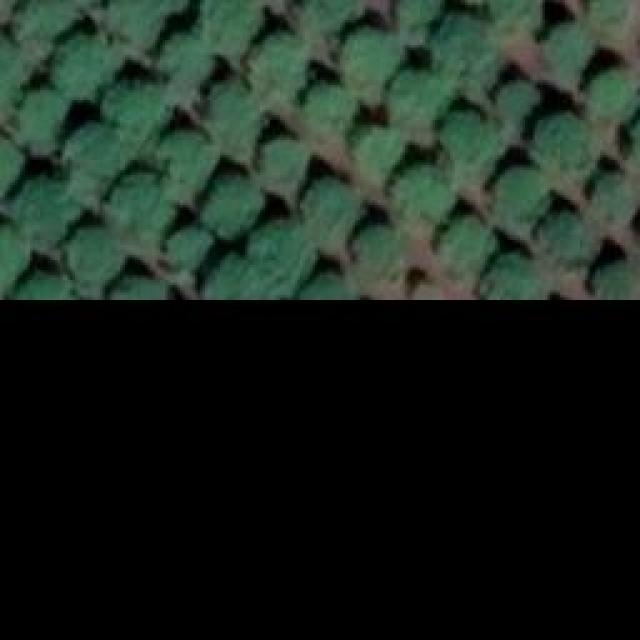Tree: (108, 170, 181, 238), (5, 180, 75, 243), (337, 25, 405, 88), (54, 30, 115, 98), (245, 30, 308, 95), (385, 165, 450, 228), (305, 172, 365, 240), (200, 175, 265, 235), (390, 68, 450, 131), (490, 168, 553, 228), (245, 218, 308, 278), (157, 125, 215, 188), (153, 30, 213, 88), (208, 82, 258, 150), (478, 252, 548, 300), (98, 75, 158, 130), (443, 215, 498, 275), (63, 225, 118, 283), (543, 112, 598, 170), (440, 15, 498, 68), (347, 223, 405, 276), (105, 0, 160, 52), (540, 210, 593, 263), (350, 125, 403, 178), (70, 120, 120, 173), (298, 83, 348, 136), (17, 90, 65, 145), (445, 110, 490, 168), (585, 70, 638, 118), (197, 0, 257, 42), (538, 23, 588, 73), (208, 260, 271, 298), (15, 0, 68, 45), (497, 78, 545, 121), (260, 140, 308, 183), (0, 40, 28, 113), (593, 173, 636, 218), (585, 260, 638, 295), (10, 273, 78, 298), (300, 0, 355, 30), (0, 135, 25, 198), (110, 275, 173, 300), (393, 0, 446, 28), (0, 235, 25, 288), (300, 273, 353, 298), (490, 0, 540, 25), (590, 0, 630, 30), (170, 232, 210, 260)
